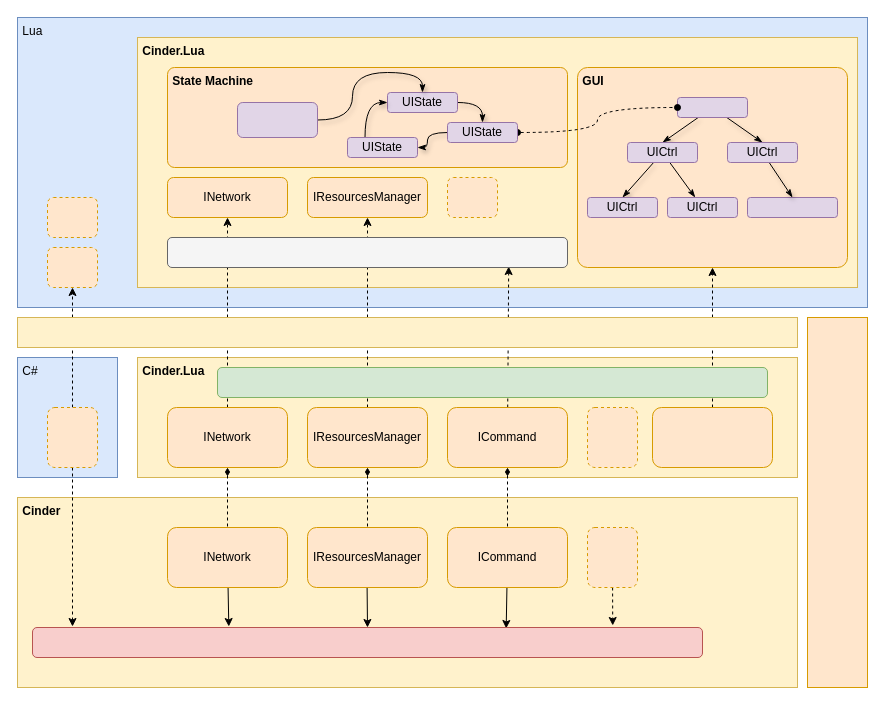
Image size: 885x705. Some labels were removed from this diagram. The shapes that lost their labels are listed below. From the top down, each one's centre as x and y in pixels, then its label:
the point at 277,120: UIStateDriver
the point at 712,107: UIApp
the point at 792,207: UIComponent
the point at 367,252: Service Locator (Maintain Lua service lifecycle)
the point at 407,332: Cinder.ToLua
the point at 492,382: Service Locator (Export to Lua global table)
the point at 712,437: UI System
the point at 837,502: Tool
the point at 367,642: Service Locator (Maintain service lifecycle)
